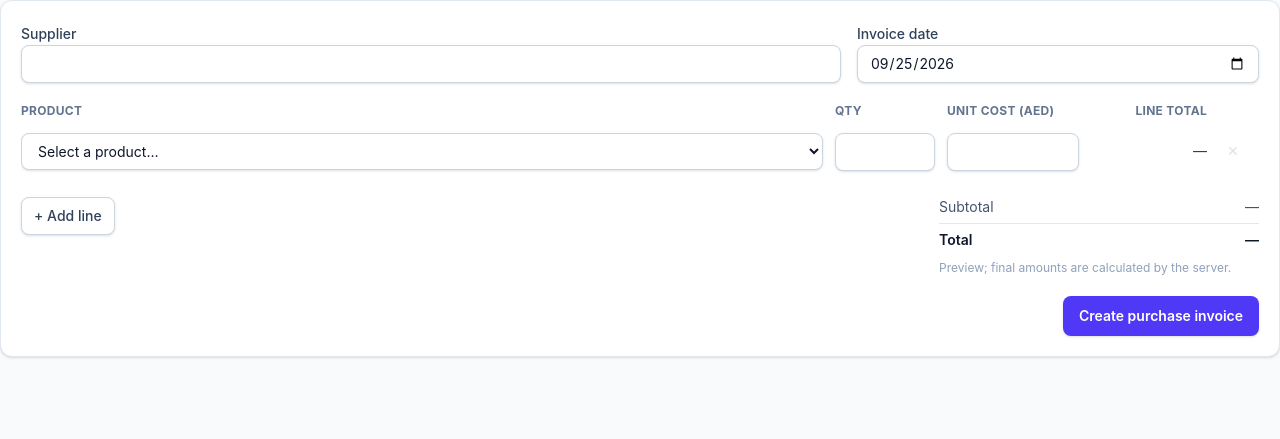
Scenario: PurchaseForm › sends a date the user picked
The width and height of the screenshot is (1280, 439).
In the field labelled "Supplier": (431, 64) [21,45,841,83], type "Gulf Tech"
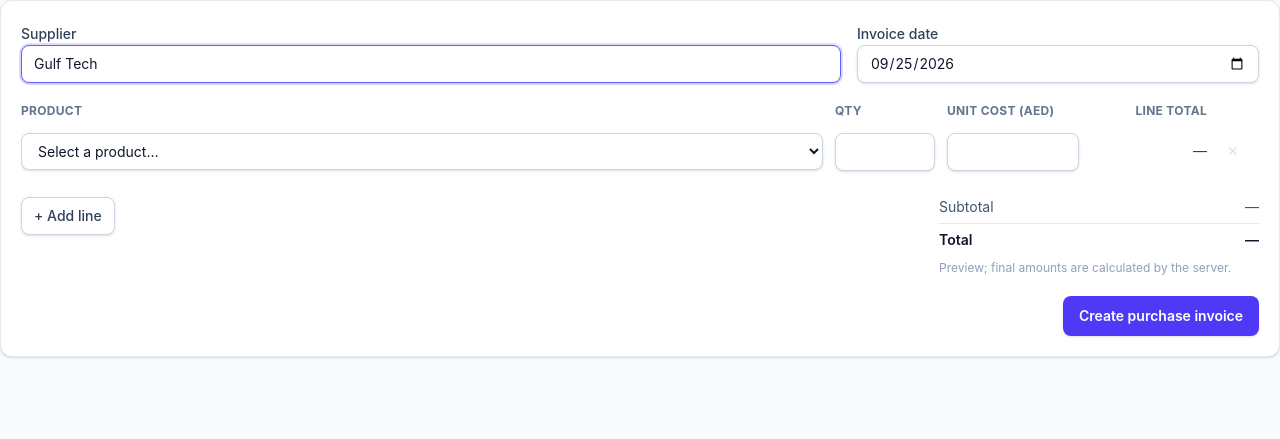
In the date field labelled "Invoice date": (1058, 64) [857,45,1259,83], type "2026-09-01"
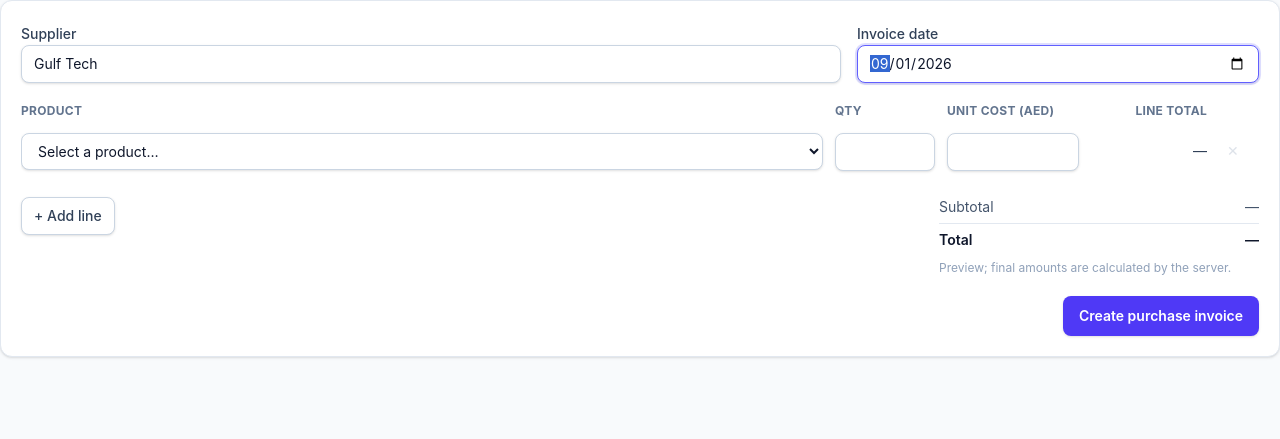
Select "Mechanical Keyboard (KB-MECH-001)" in the dropdown named "Product for line 1": (422, 152) [21,133,823,170]
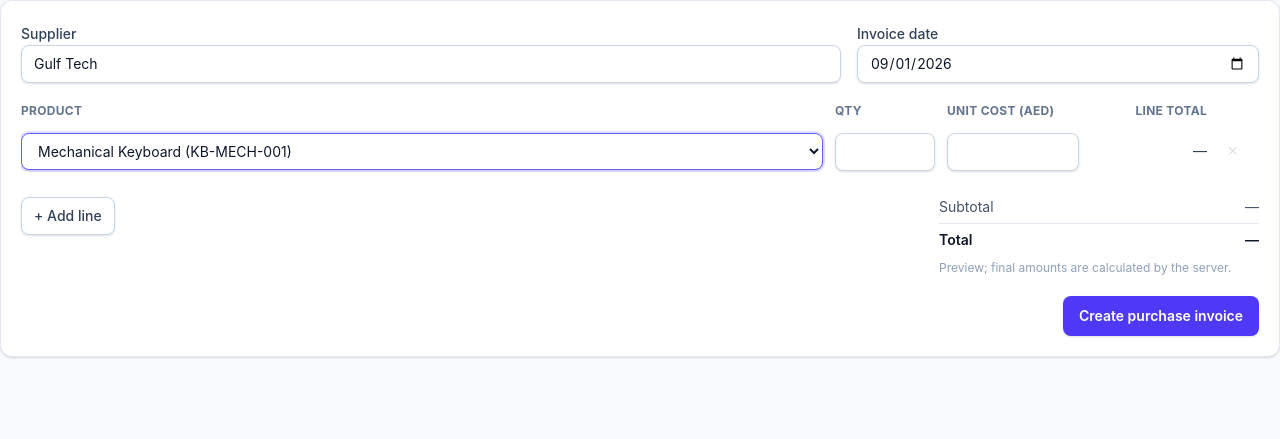
In the number field named "Quantity for line 1": (885, 152) [835,133,935,171], type "1"
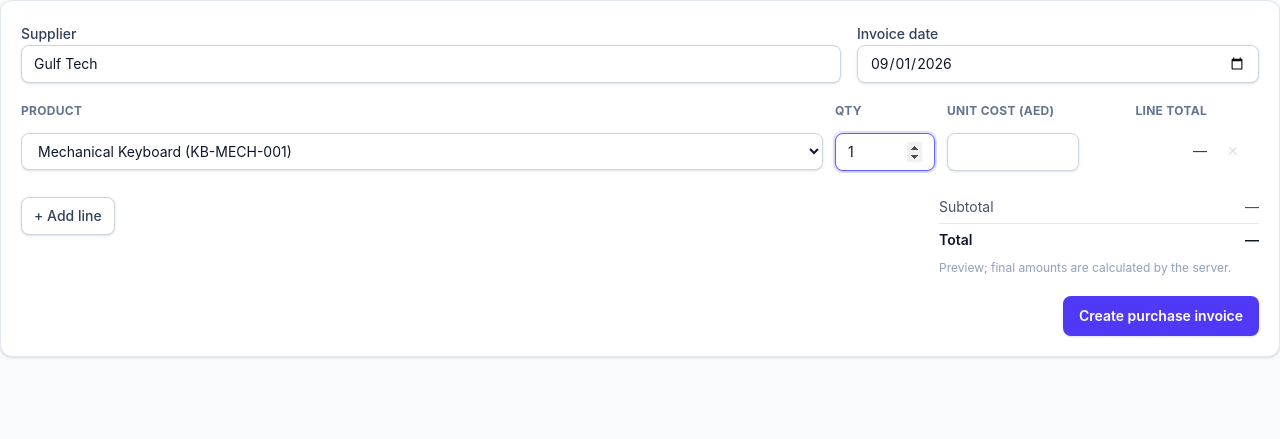
In the number field named "Unit cost for line 1": (1013, 152) [947,133,1079,171], type "1"
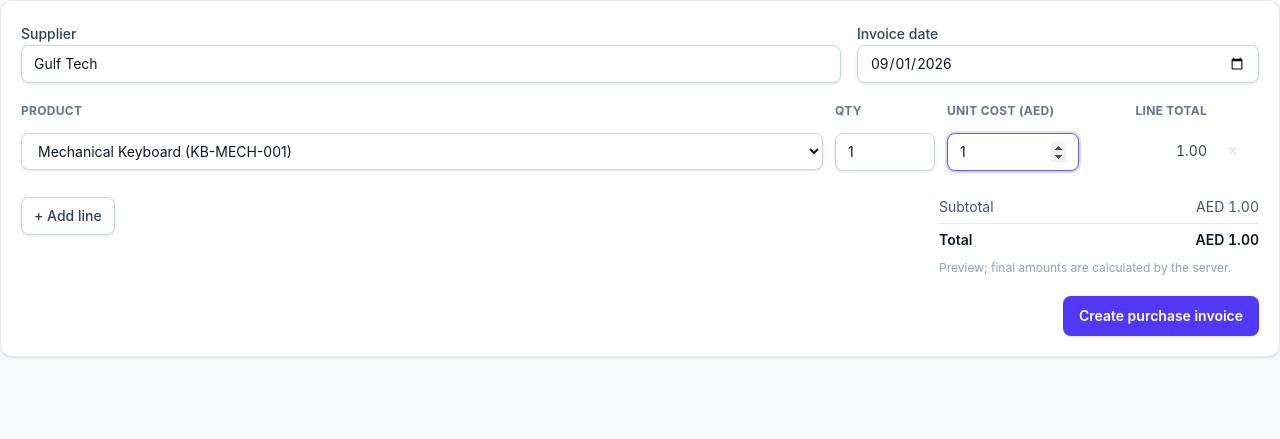
Click the button "Create purchase invoice": (1161, 316) [1063,296,1259,336]
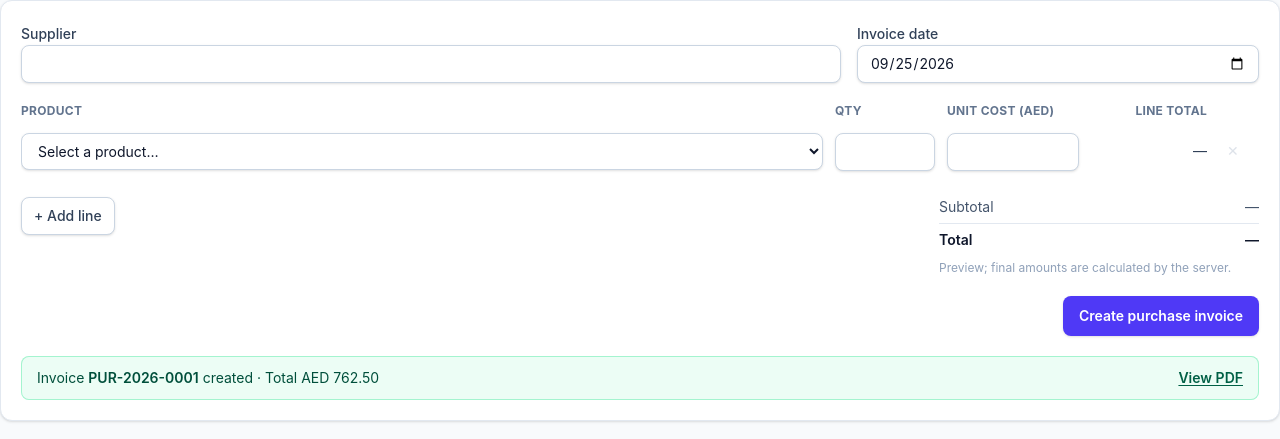
Result: the message "Invoice PUR-2026-0001 created · Total AED 762.50 View PDF" is shown at [21,356,1259,400]
